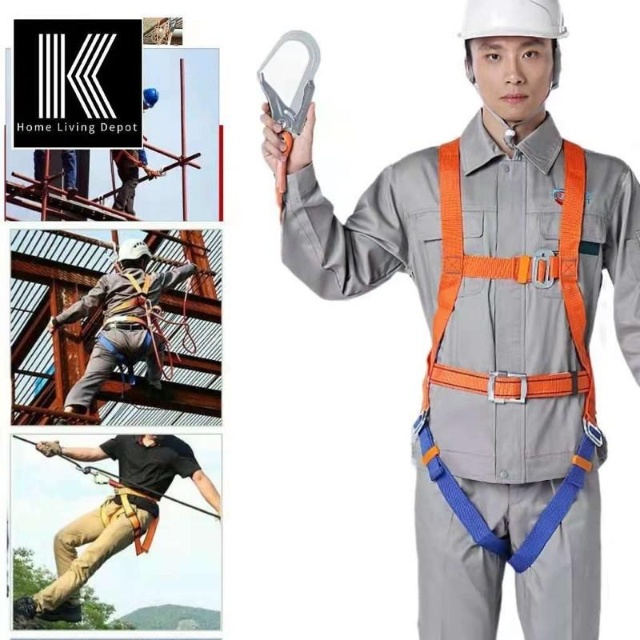Arnes_seguridad: (409, 132, 608, 573), (95, 269, 164, 376)
